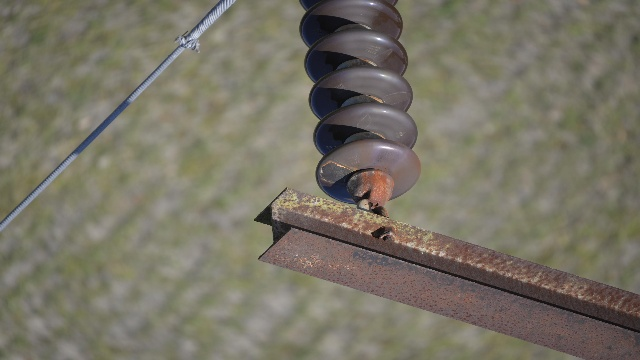insulator_unspecified: (301, 0, 421, 204)
pollution_flashover_local: (318, 156, 352, 187), (382, 92, 413, 108), (358, 112, 373, 133)
